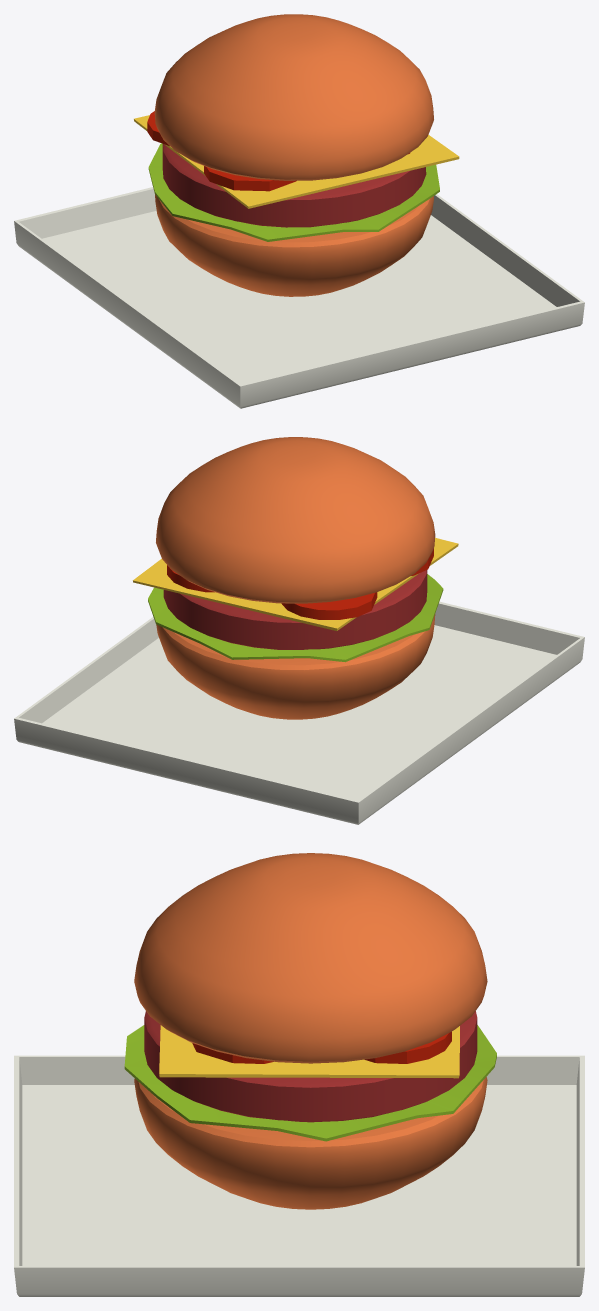
File: hamburger.glb
3 views of the same model, one above another, from view 1: azimuth 30°, elevation 25°; view 2: azimuth 150°, elevation 25°; view 3: azimuth 270°, elevation 25° (orthographic). The views are drawn at different scales.
Parts seen in each view (by area): view 1: burger; view 2: burger; view 3: burger.
Part boxes in pixels (left/top/right/bottom): burger: left=14, top=14, right=584, bottom=408; burger: left=14, top=437, right=584, bottom=824; burger: left=14, top=853, right=584, bottom=1296.
Bounding box in the file's own units: 0.1945 × 0.1353 × 0.2212.
1 material, 1 textured.
